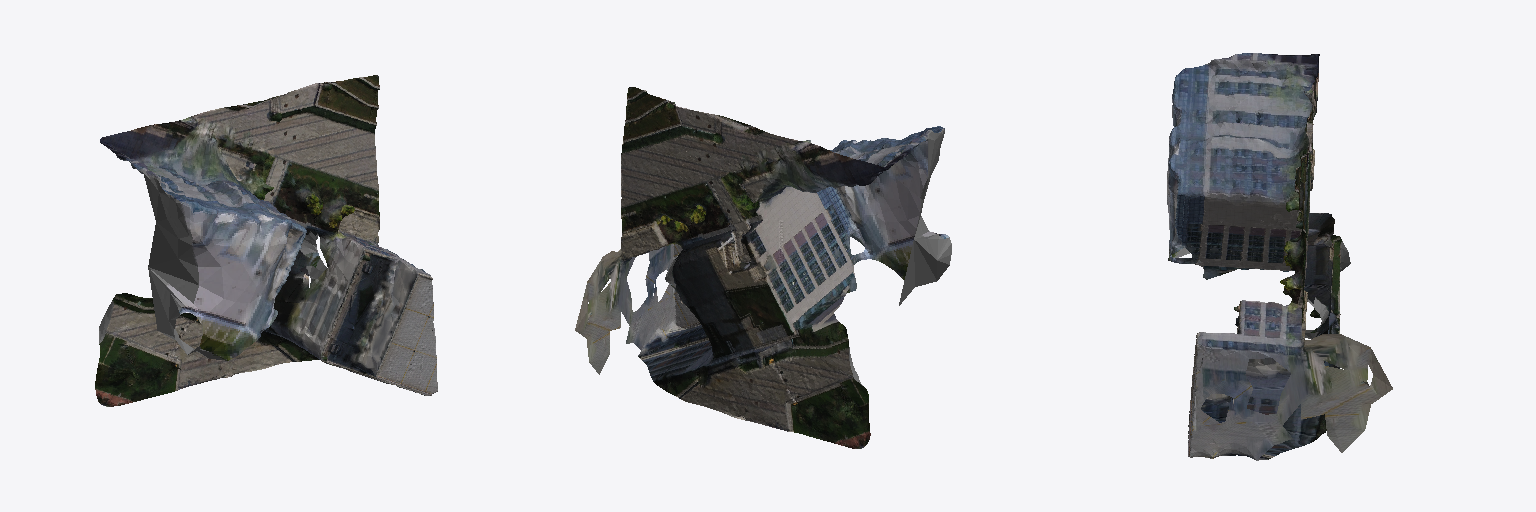
3 views of the same model, side by side, from view 1: azimuth 30°, elevation 25°; view 2: azimuth 150°, elevation 25°; view 3: azimuth 270°, elevation 25° (orthographic).
Size of the model in its own units: 61.66 by 61.41 by 43.75.
2 materials, 1 textured.